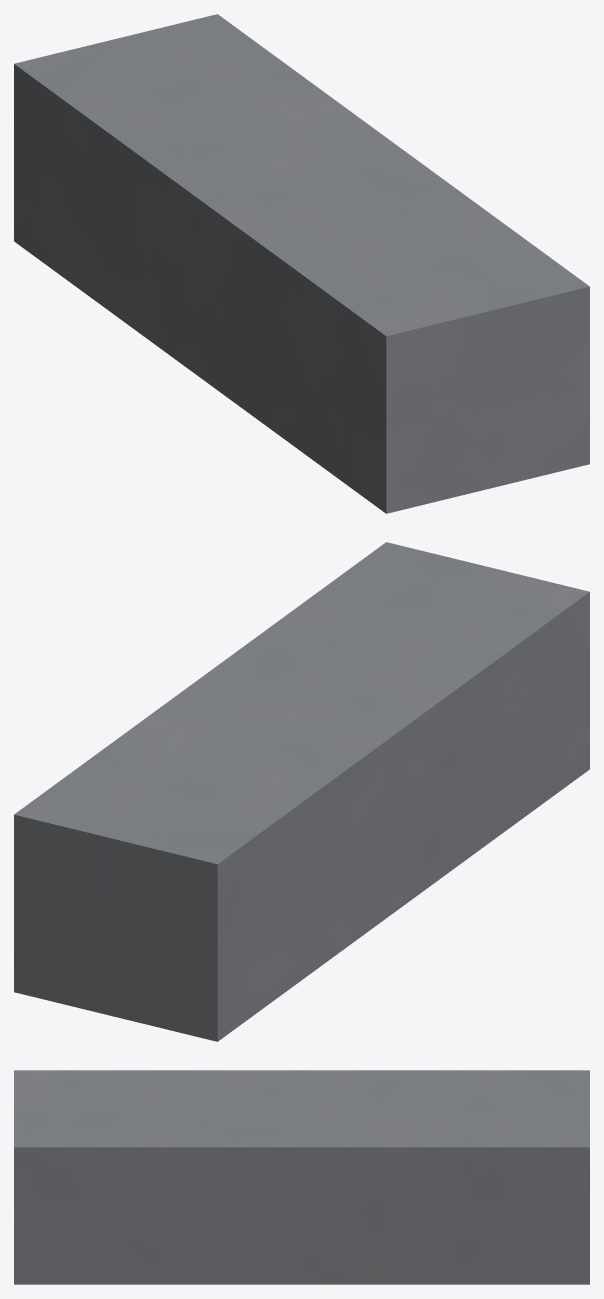
The model's file is locker.glb.
3 views of the same model, one above another, from view 1: azimuth 30°, elevation 25°; view 2: azimuth 150°, elevation 25°; view 3: azimuth 270°, elevation 25° (orthographic). The views are drawn at different scales.
Parts seen in each view (by area): view 1: decor_locker_baked; view 2: decor_locker_baked; view 3: decor_locker_baked.
Part boxes in pixels (bbox=[...]): decor_locker_baked: bbox=[14, 14, 589, 513]; decor_locker_baked: bbox=[14, 542, 589, 1041]; decor_locker_baked: bbox=[14, 1070, 589, 1284].
Size of the model in its own units: 0.6 by 0.505 by 1.9.
Materials: 1 (1 with a texture image).
